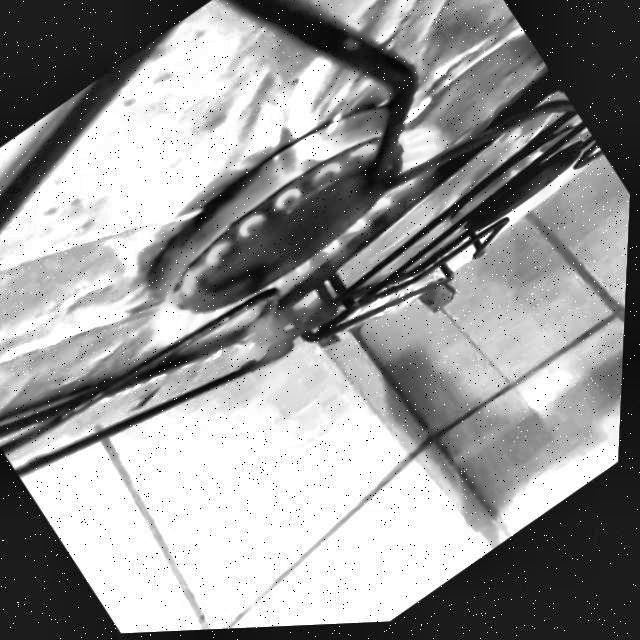Fire: (120, 91, 519, 443)
